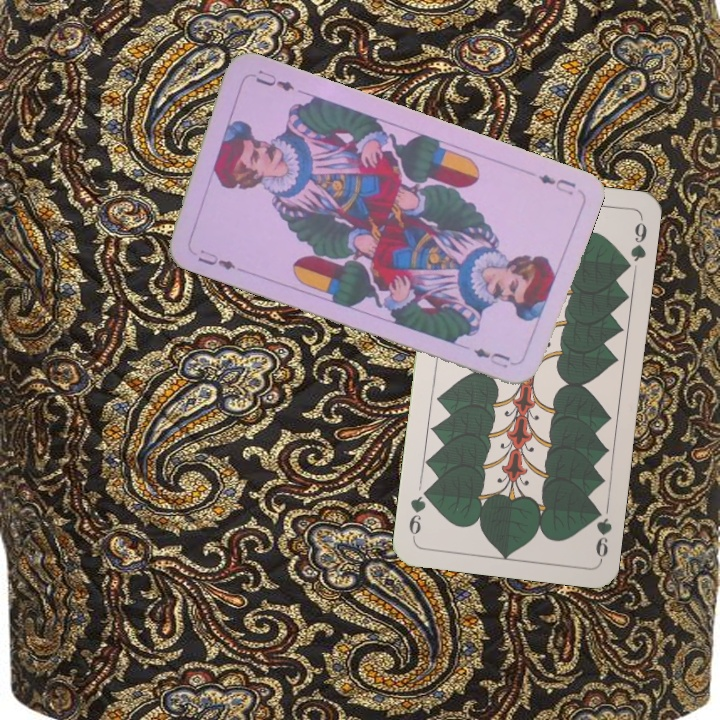EU: (534, 170, 579, 198), (194, 245, 238, 273)
G9: (589, 502, 615, 563)
